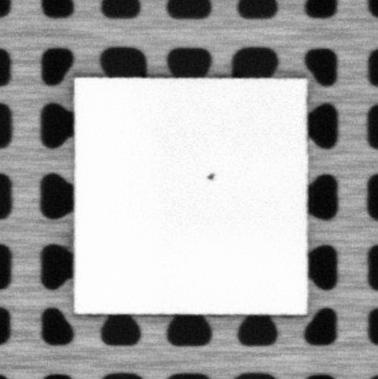DIE_INK: (204, 172, 217, 180)
